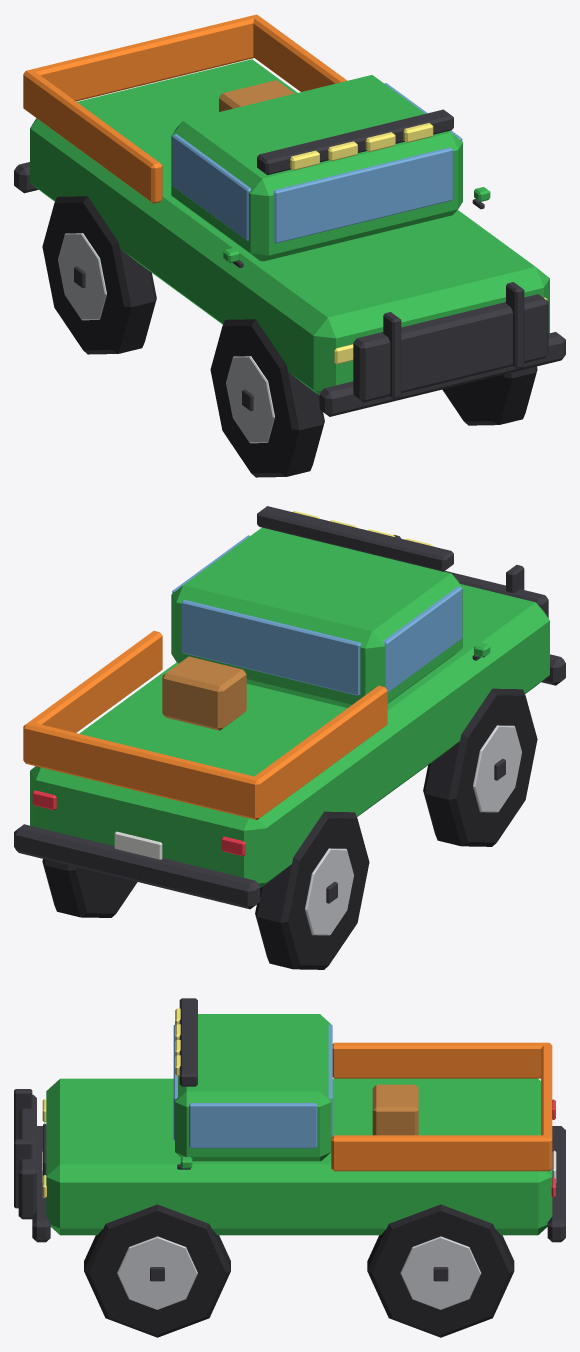
The model's file is OffroadTruck.fbx.
The picture shows the model from 3 angles, top to bottom: view 1: azimuth 30°, elevation 25°; view 2: azimuth 150°, elevation 25°; view 3: azimuth 270°, elevation 25°; orthographic projection. The views are drawn at different scales.
Visible parts, largest first — view 1: OffroadTruck, OffroadTruck_WheelBR, OffroadTruck_WheelFR, OffroadTruck_WheelFL; view 2: OffroadTruck, OffroadTruck_WheelFR, OffroadTruck_WheelBR, OffroadTruck_WheelBL; view 3: OffroadTruck, OffroadTruck_WheelBL, OffroadTruck_WheelFL.
Boxes of the visible parts, <box> form: OffroadTruck: <box>14,14,565,416</box>; OffroadTruck_WheelBR: <box>42,196,156,354</box>; OffroadTruck_WheelFR: <box>210,319,324,477</box>; OffroadTruck_WheelFL: <box>442,366,537,425</box>; OffroadTruck: <box>14,506,565,909</box>; OffroadTruck_WheelFR: <box>423,688,537,846</box>; OffroadTruck_WheelBR: <box>255,811,369,969</box>; OffroadTruck_WheelBL: <box>42,859,137,917</box>; OffroadTruck: <box>14,998,565,1242</box>; OffroadTruck_WheelBL: <box>367,1204,514,1337</box>; OffroadTruck_WheelFL: <box>84,1204,230,1337</box>.
Bounding box in the file's own units: 5.55 × 6.07 × 12.
1 material, 1 textured.
